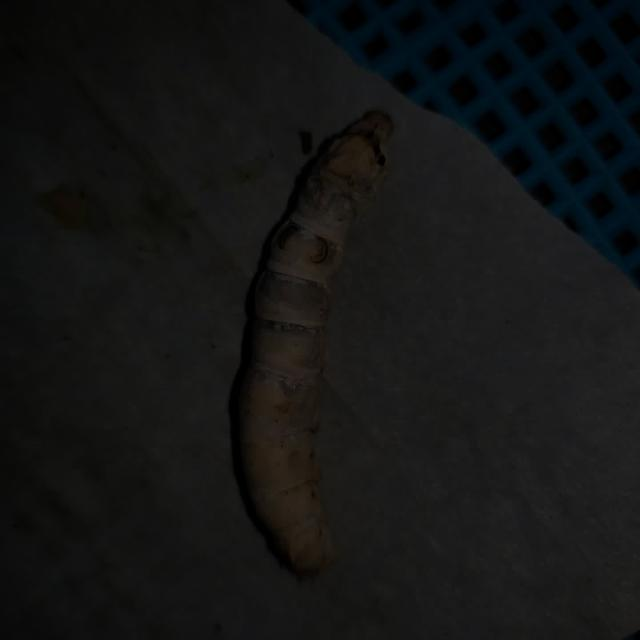Grasserie: (205, 73, 450, 604)
